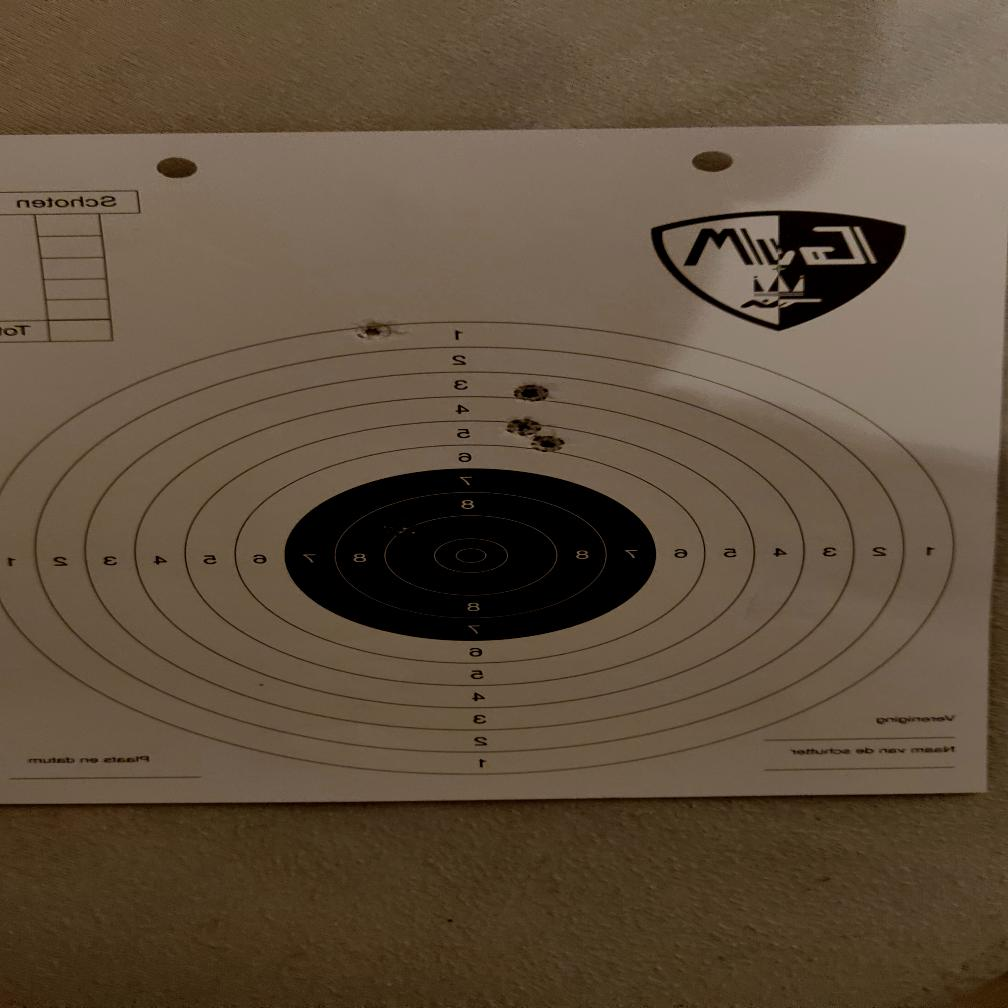1: (353, 323, 394, 339)
4: (513, 382, 550, 402)
5: (504, 418, 541, 437)
6: (528, 435, 566, 452)
9: (378, 518, 426, 537)
Target: (0, 321, 956, 777)
black_contour: (282, 468, 660, 641)
